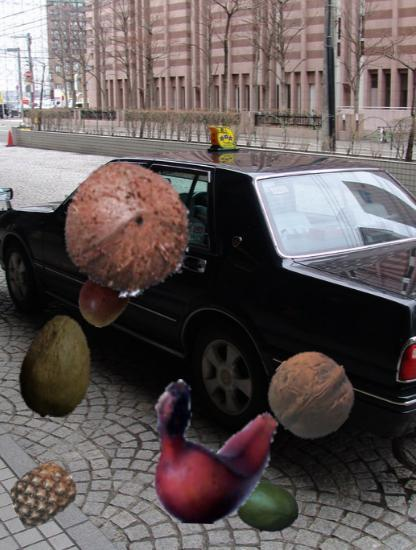Banana: (145, 380, 290, 525)
Cocos: (59, 160, 197, 298)
Mango: (234, 475, 300, 541), (75, 269, 134, 328)
Papaya: (4, 314, 112, 422)
Pineapple: (10, 460, 76, 526)
Walnut: (268, 352, 354, 438)
